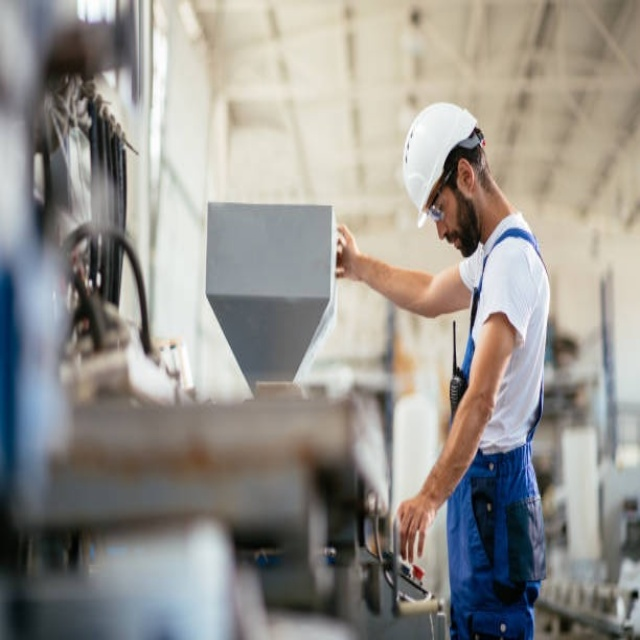Gafas: (425, 157, 459, 221)
Sin_guantes: (395, 489, 438, 561), (335, 218, 362, 282)
Sin_mascara: (438, 221, 468, 259)
